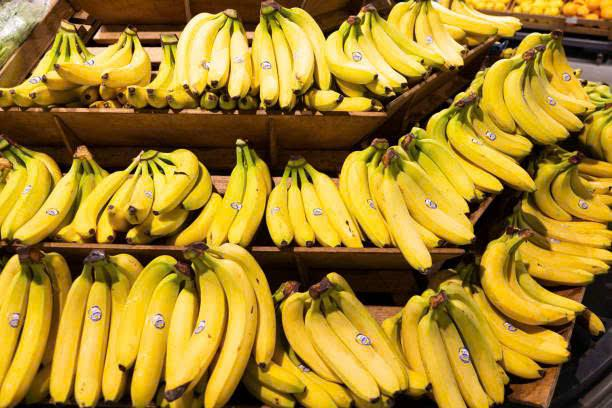banana: (138, 246, 280, 398), (6, 253, 123, 407), (342, 140, 475, 263), (285, 285, 416, 401), (415, 284, 520, 403), (104, 148, 214, 242), (251, 0, 341, 107), (483, 55, 581, 145), (3, 142, 98, 232), (509, 191, 612, 274), (29, 34, 110, 116), (181, 5, 255, 90), (96, 13, 157, 106), (224, 133, 271, 245), (349, 14, 428, 79)
